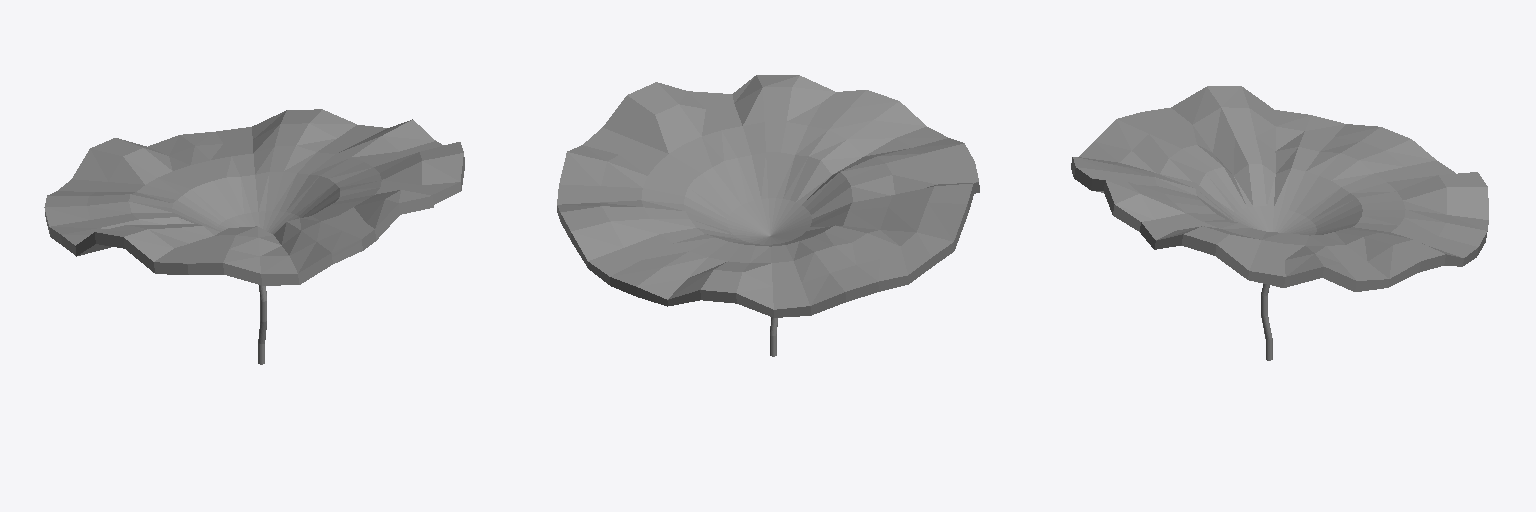
The model's file is heye.obj.
The picture shows the model from 3 angles: view 1: azimuth 30°, elevation 25°; view 2: azimuth 150°, elevation 25°; view 3: azimuth 270°, elevation 25°; orthographic projection.
Visible parts, largest first — view 1: Cylinder001, Cylinder002; view 2: Cylinder001; view 3: Cylinder001, Cylinder002.
Boxes of the visible parts, x1,y1,x2,y2 form: Cylinder001: [44, 109, 464, 285]; Cylinder002: [258, 285, 266, 364]; Cylinder001: [557, 75, 979, 317]; Cylinder001: [1071, 86, 1488, 291]; Cylinder002: [1261, 284, 1272, 360].
Size of the model in its own units: 60.01 by 32.29 by 59.35.